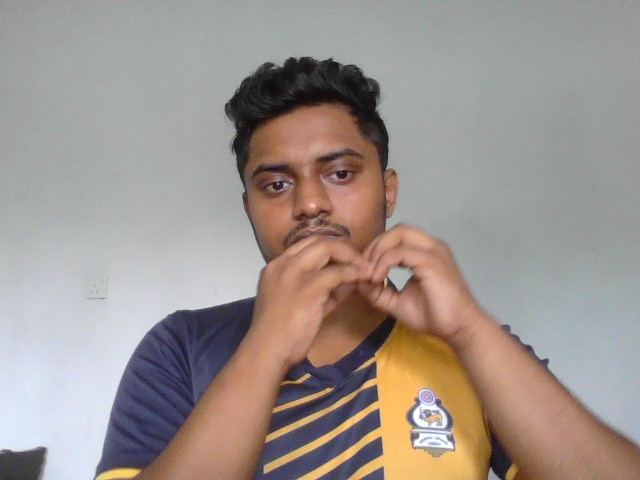More: (252, 223, 472, 352)
